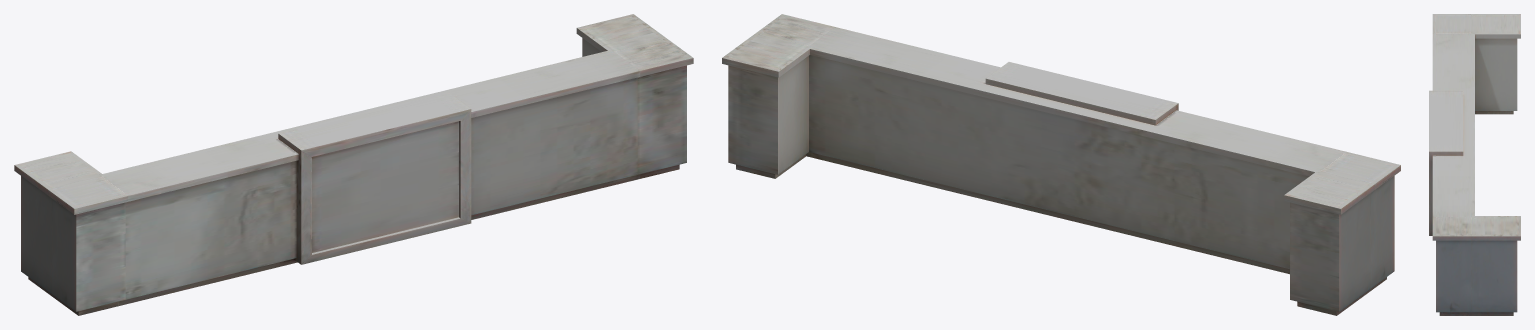
File: Reception desk.fbx
3 views of the same model, side by side, from view 1: azimuth 30°, elevation 25°; view 2: azimuth 150°, elevation 25°; view 3: azimuth 270°, elevation 25° (orthographic). The views are drawn at different scales.
Visible parts, largest first — view 1: Cube.027; view 2: Cube.027; view 3: Cube.027.
Boxes of the visible parts, <box> form: Cube.027: <box>14,14,693,315</box>; Cube.027: <box>722,14,1400,315</box>; Cube.027: <box>1429,14,1520,315</box>.
Size of the model in its own units: 182 by 33.16 by 31.67.
